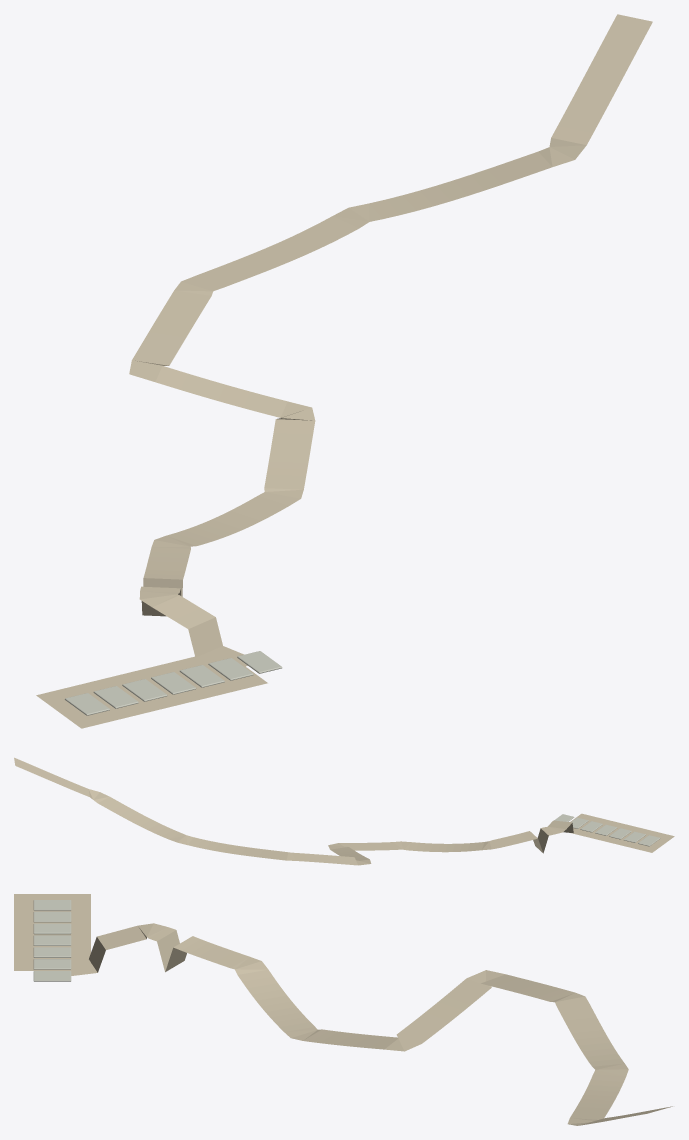
File: Paths.fbx
3 renders of one model, top to bottom at view 1: azimuth 30°, elevation 25°; view 2: azimuth 150°, elevation 25°; view 3: azimuth 270°, elevation 25°, orthographic. The views are drawn at different scales.
Visible parts, largest first — view 1: Paths; view 2: Paths; view 3: Paths.
Boxes of the visible parts, left/top/right/bottom form: Paths: left=36, top=14, right=652, bottom=728; Paths: left=14, top=757, right=674, bottom=865; Paths: left=14, top=894, right=672, bottom=1125.
Bounding box in the file's own units: 6592 × 4725 × 1342.
